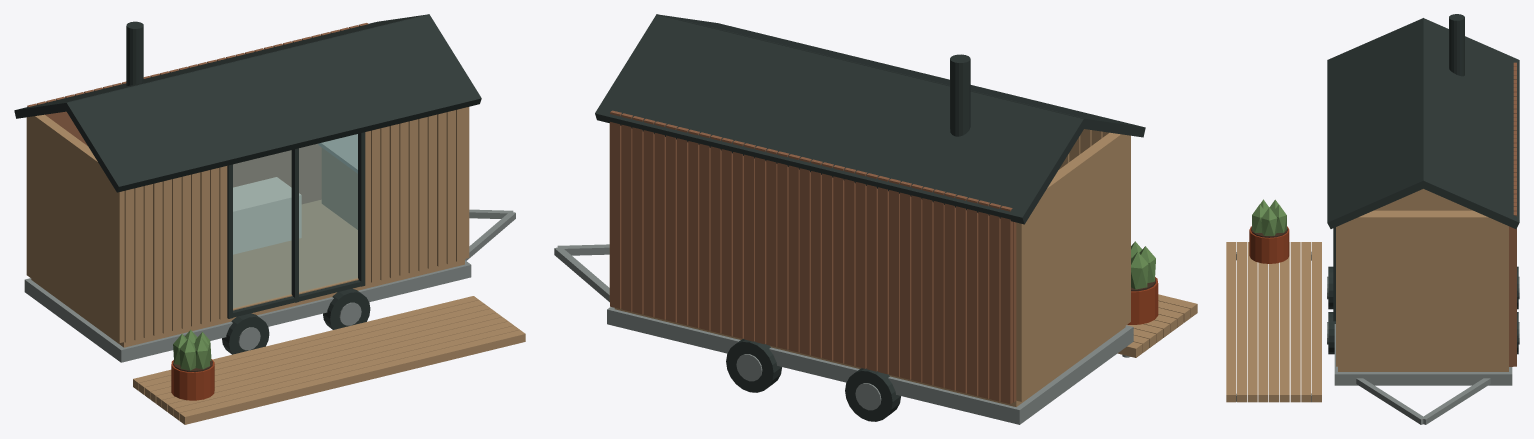
File: nordic.glb
3 renders of one model, left to right at view 1: azimuth 30°, elevation 25°; view 2: azimuth 150°, elevation 25°; view 3: azimuth 270°, elevation 25°, orthographic. The views are drawn at different scales.
Parts seen in each view (by area): view 1: nordic_Modrin, nordic_Antracit, nordic_Sklo, nordic_Ocel, nordic_Cedr, nordic_Len, nordic_Corten, nordic_Zelen, nordic_Kamen; view 2: nordic_Cedr, nordic_Antracit, nordic_Modrin, nordic_Ocel, nordic_Corten, nordic_Zelen; view 3: nordic_Modrin, nordic_Antracit, nordic_Ocel, nordic_Cedr, nordic_Corten, nordic_Zelen.
Part boxes in pixels (x1,y1,x2,y2): nordic_Modrin: [26, 107, 525, 424]; nordic_Antracit: [14, 14, 481, 354]; nordic_Sklo: [233, 134, 357, 308]; nordic_Ocel: [24, 209, 515, 362]; nordic_Cedr: [27, 23, 368, 204]; nordic_Len: [233, 177, 301, 254]; nordic_Corten: [171, 359, 214, 400]; nordic_Zelen: [173, 329, 211, 370]; nordic_Kamen: [318, 134, 357, 173]; nordic_Cedr: [610, 110, 1016, 404]; nordic_Antracit: [595, 14, 1145, 421]; nordic_Modrin: [609, 123, 1197, 406]; nordic_Ocel: [554, 244, 1133, 424]; nordic_Corten: [1127, 277, 1158, 324]; nordic_Zelen: [1131, 241, 1155, 289]; nordic_Modrin: [1226, 189, 1508, 402]; nordic_Antracit: [1327, 14, 1519, 354]; nordic_Ocel: [1236, 251, 1519, 424]; nordic_Cedr: [1509, 62, 1516, 366]; nordic_Corten: [1249, 226, 1289, 263]; nordic_Zelen: [1252, 199, 1286, 235].
Size of the model in its own units: 7.1 by 4.45 by 4.38.
